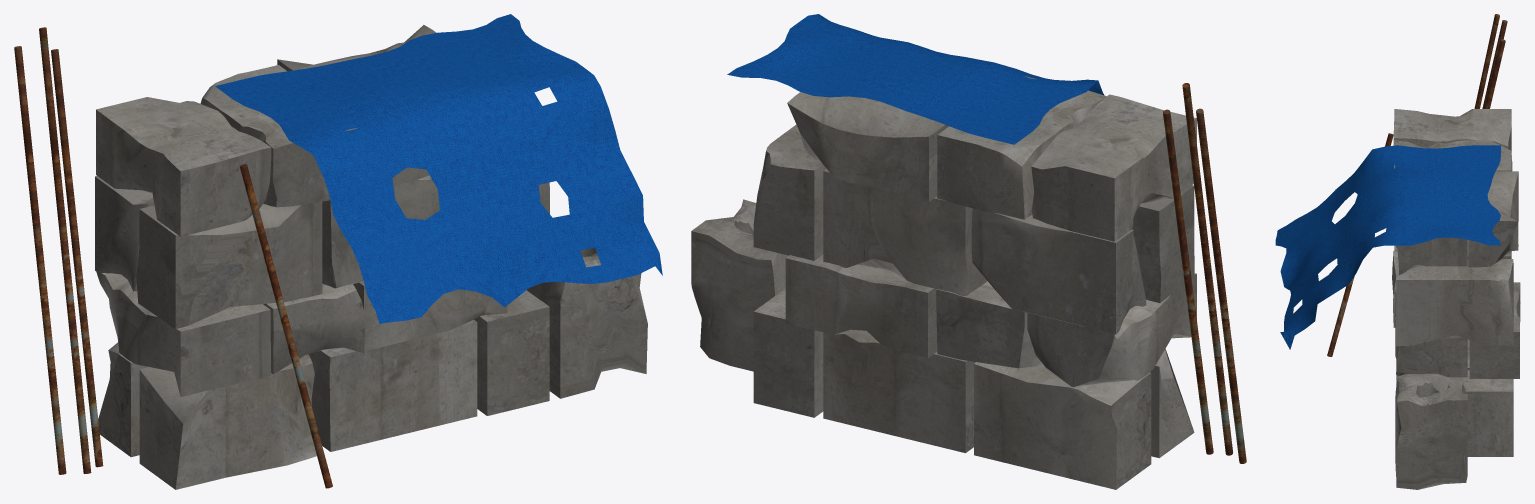
Rendered from Cinder Blocks 1.fbx.
The picture shows the model from 3 angles, left to right: view 1: azimuth 30°, elevation 25°; view 2: azimuth 150°, elevation 25°; view 3: azimuth 270°, elevation 25°; orthographic projection. The views are drawn at different scales.
Parts seen in each view (by area): view 1: pPlane1, polySurface13, polySurface1, polySurface10, polySurface2, polySurface6, polySurface19, polySurface3, polySurface18, polySurface7, polySurface15, polySurface8 (+7 smaller); view 2: pPlane1, polySurface5, polySurface13, polySurface15, polySurface4, polySurface12, polySurface17, polySurface9, polySurface19, polySurface6, polySurface18, polySurface11 (+7 smaller); view 3: pPlane1, polySurface11, polySurface19, polySurface3, polySurface13, polySurface17, polySurface8, polySurface9, polySurface14, polySurface18, polySurface20, polySurface23 (+3 smaller).
Part boxes in pixels (x1,y1,x2,y2): pPlane1: (215, 14, 662, 323); polySurface13: (96, 97, 271, 236); polySurface1: (139, 354, 316, 489); polySurface10: (136, 201, 322, 329); polySurface2: (308, 319, 477, 451); polySurface6: (96, 271, 270, 396); polySurface19: (527, 247, 647, 398); polySurface3: (474, 290, 549, 415); polySurface18: (200, 65, 359, 207); polySurface7: (263, 283, 364, 374); polySurface15: (95, 176, 154, 291); polySurface8: (353, 281, 507, 351); pPlane1: (727, 14, 1103, 144); polySurface5: (974, 362, 1151, 489); polySurface13: (1031, 94, 1196, 241); polySurface15: (971, 208, 1146, 334); polySurface4: (823, 332, 975, 453); polySurface12: (823, 169, 987, 295); polySurface17: (787, 92, 948, 201); polySurface9: (785, 255, 937, 358); polySurface19: (691, 199, 788, 371); polySurface6: (1027, 273, 1196, 387); polySurface18: (937, 76, 1106, 219); polySurface11: (753, 124, 826, 260); pPlane1: (1275, 145, 1500, 349); polySurface11: (1396, 259, 1513, 346); polySurface19: (1395, 373, 1467, 489); polySurface3: (1396, 370, 1513, 456); polySurface13: (1393, 109, 1511, 152); polySurface17: (1468, 171, 1518, 267); polySurface8: (1395, 282, 1467, 377); polySurface9: (1469, 282, 1520, 378); polySurface14: (1396, 237, 1467, 266); polySurface18: (1393, 140, 1512, 171); polySurface20: (1474, 14, 1499, 108); polySurface23: (1327, 133, 1393, 356).
Bounding box in the file's own units: 8.86 × 6.53 × 4.89.
3 materials, 3 textured.
